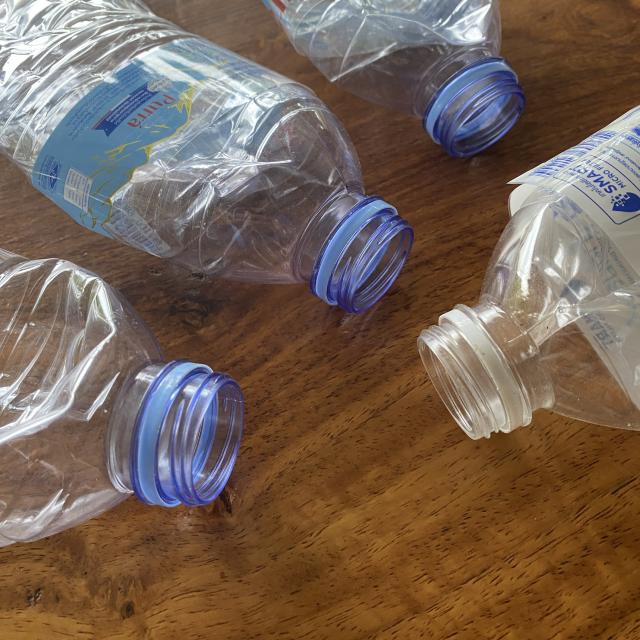plastik: (0, 0, 412, 312), (418, 106, 640, 439), (0, 249, 244, 546), (264, 0, 525, 156)
